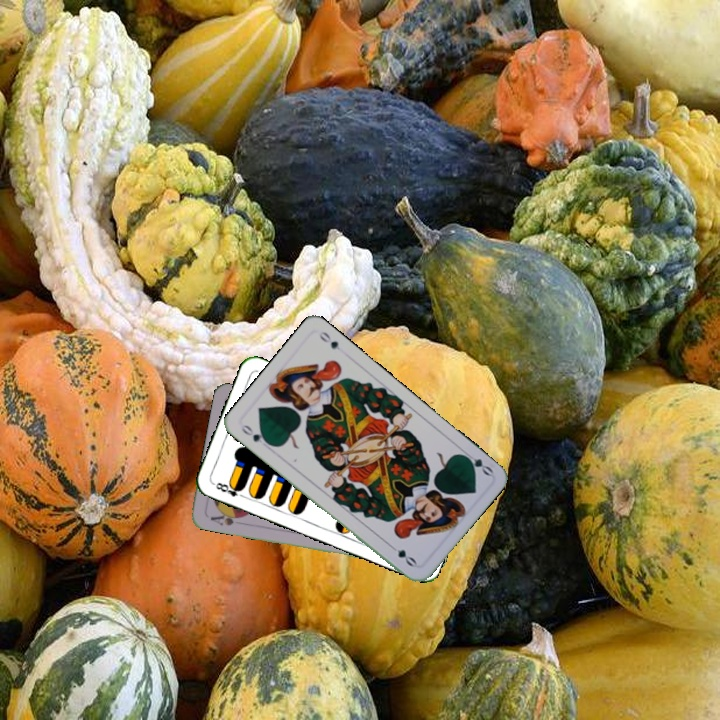E8: (210, 478, 248, 501)
GO: (458, 447, 495, 478), (237, 421, 273, 448)
SA: (206, 508, 246, 528)
